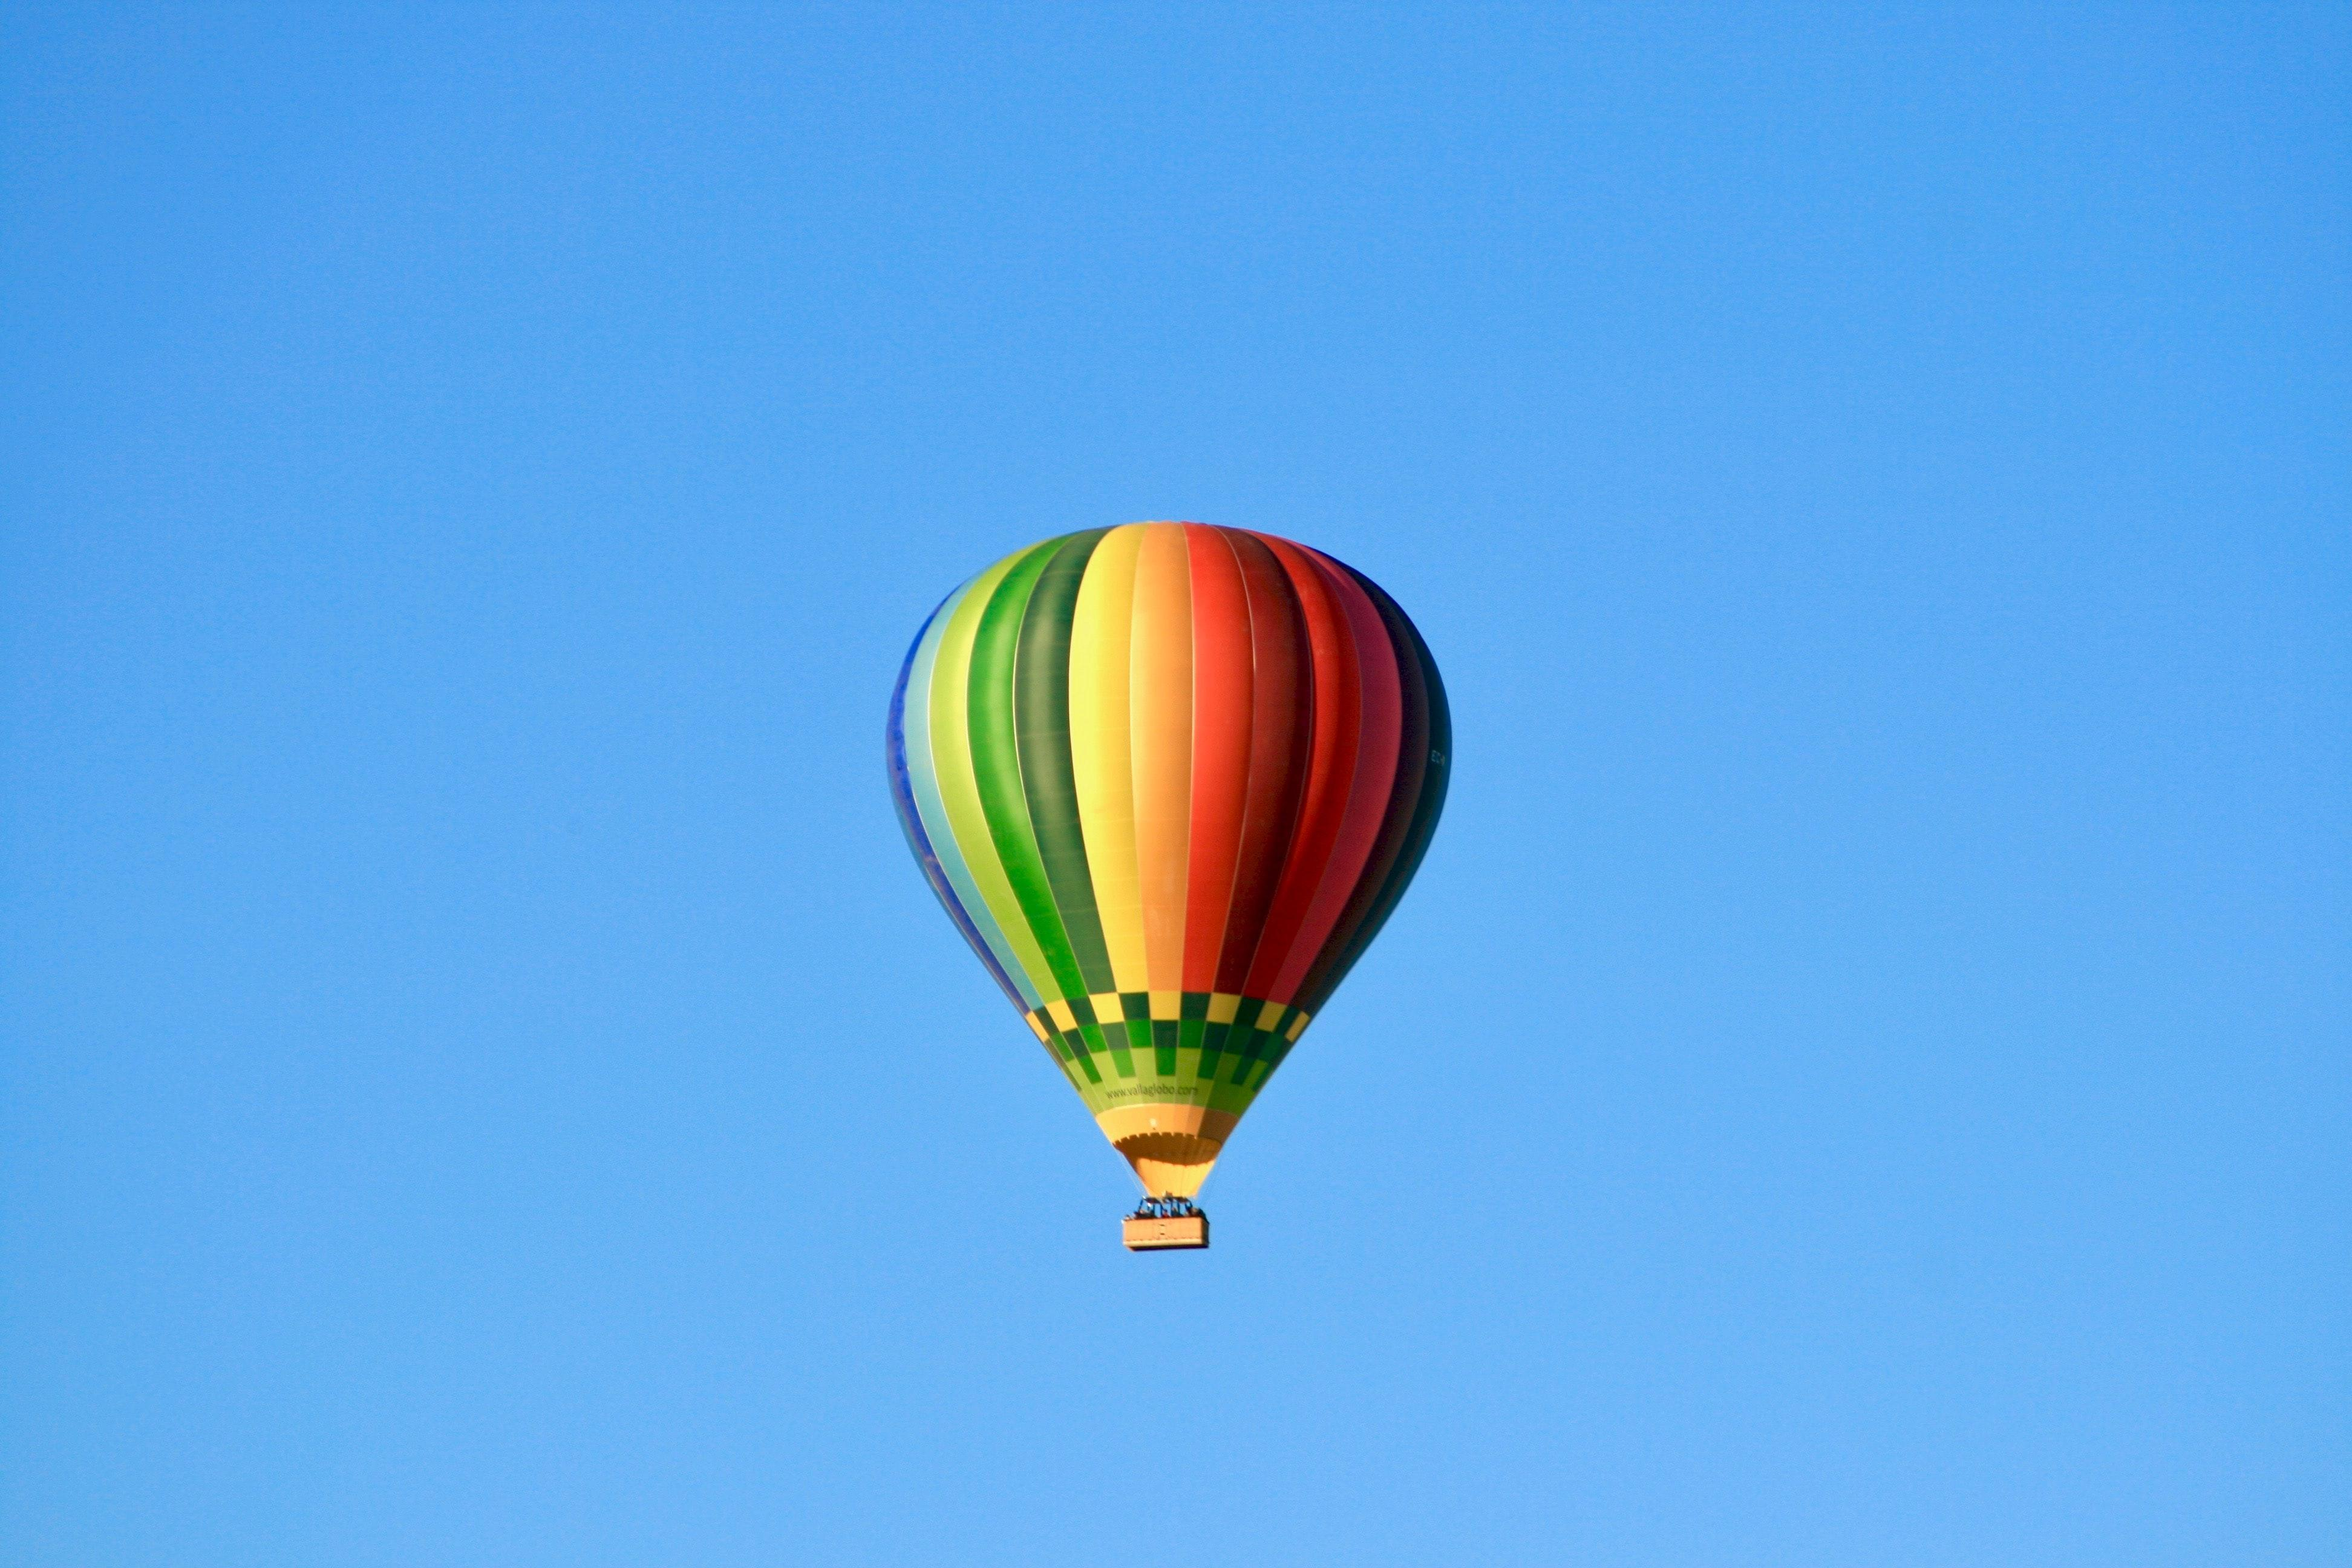hot air ballon: (884, 516, 1459, 1253)
